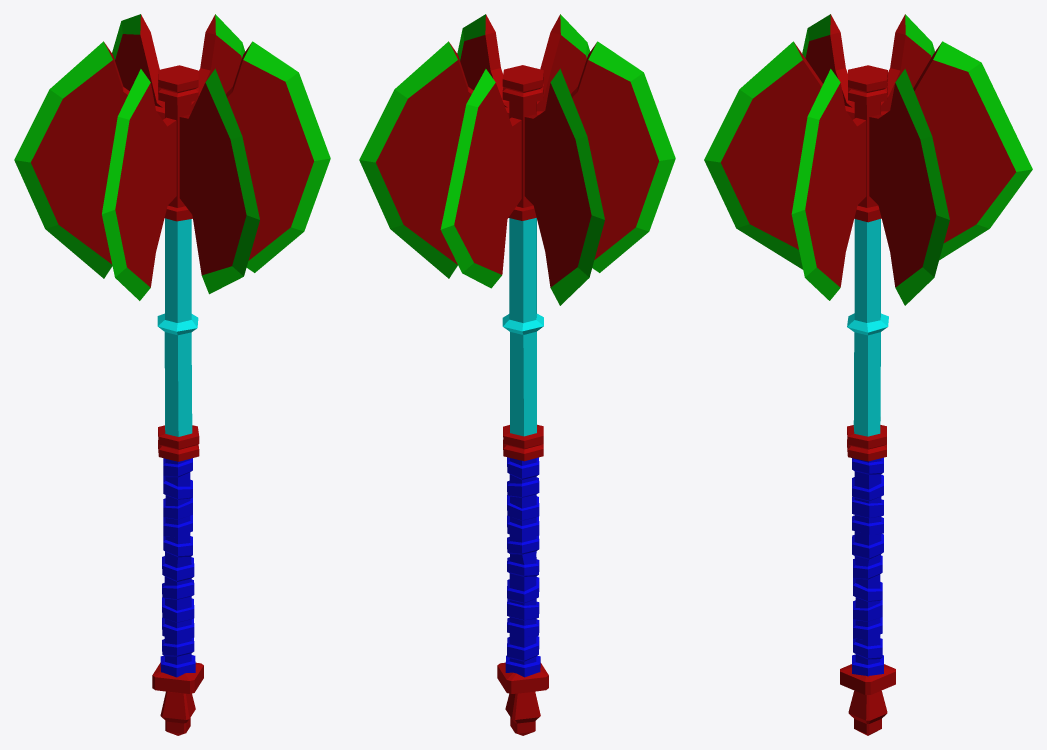
The model's file is Greathammer_Uncommon_Multiblade.fbx.
3 renders of one model, left to right at view 1: azimuth 30°, elevation 25°; view 2: azimuth 150°, elevation 25°; view 3: azimuth 270°, elevation 25°, orthographic.
Parts seen in each view (by area): view 1: SM_Wep_Axe_03; view 2: SM_Wep_Axe_03; view 3: SM_Wep_Axe_03.
Part boxes in pixels (x1=…): SM_Wep_Axe_03: x1=14, y1=14, x2=330, y2=735; SM_Wep_Axe_03: x1=359, y1=14, x2=675, y2=735; SM_Wep_Axe_03: x1=704, y1=14, x2=1032, y2=735.
Bounding box in the file's own units: 55.12 × 149 × 63.84.
